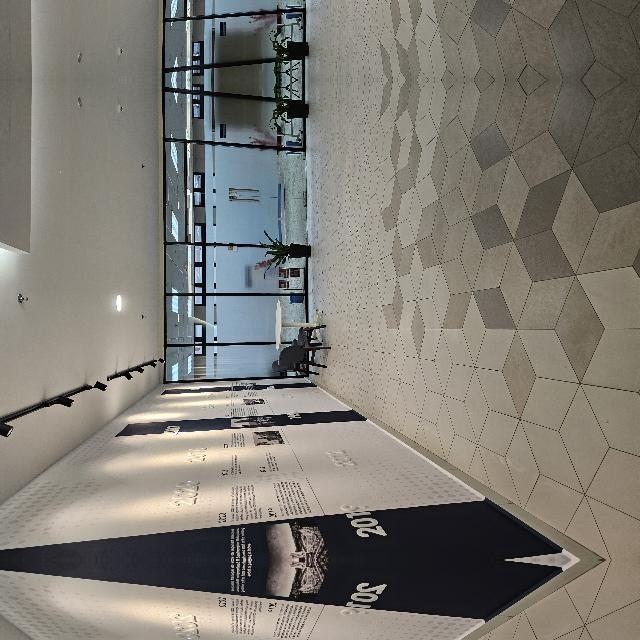door: (310, 266, 414, 390)
obstacle: (176, 346, 256, 404), (432, 344, 470, 388), (295, 343, 325, 393)
